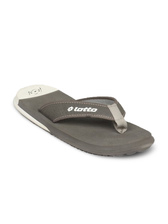shoes: (10, 76, 156, 154)
